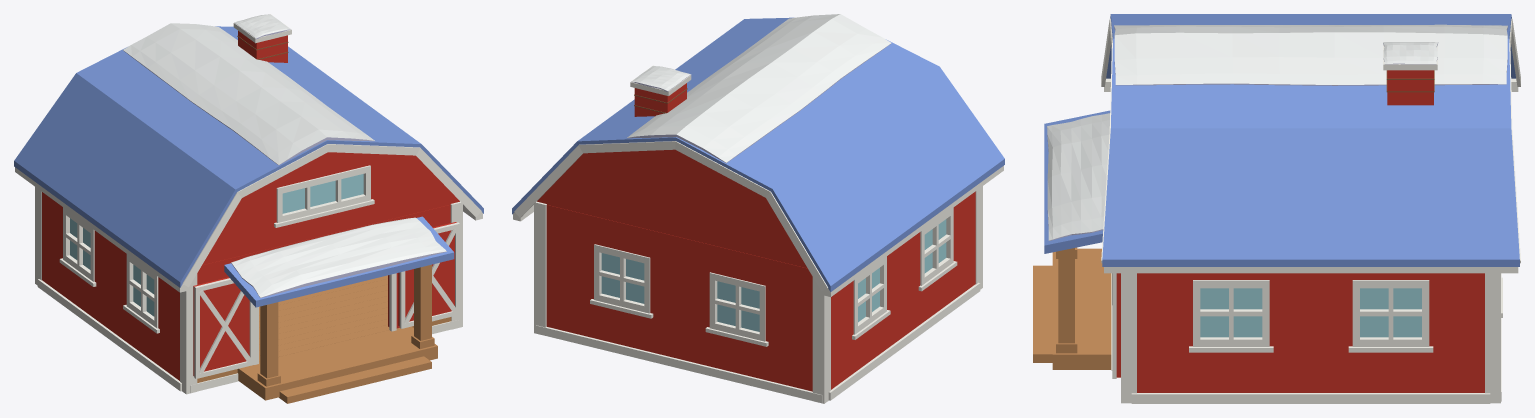
The model's file is StarterFarmhouse.glb.
3 renders of one model, left to right at view 1: azimuth 30°, elevation 25°; view 2: azimuth 150°, elevation 25°; view 3: azimuth 270°, elevation 25°, orthographic. The views are drawn at different scales.
Visible parts, largest first — view 1: MainRoof, FrontGable, LeftWall, PorchCanopy, Porch, Floor, LeftDoor, CornerBoards, RightDoor, FrontWall, Chimney; view 2: MainRoof, RearWall, RearGable, LeftWall, CornerBoards, Chimney; view 3: MainRoof, RightWall, Porch, PorchCanopy, CornerBoards, Chimney, RightDoor.
Boxes of the visible parts, x1,y1,x2,y2 form: MainRoof: (14,23,483,292); FrontGable: (202,152,459,265); LeftWall: (42,192,179,380); PorchCanopy: (224,216,454,307); Porch: (237,264,437,403); Floor: (197,275,451,382); LeftDoor: (193,277,254,378); CornerBoards: (35,187,462,394); RightDoor: (398,222,459,328); FrontWall: (197,204,450,364); Chimney: (233,14,291,62); MainRoof: (512,14,1004,296); RearWall: (546,205,812,391); RearGable: (537,149,807,268); LeftWall: (831,191,975,389); CornerBoards: (534,186,982,403); Chimney: (630,65,691,116); MainRoof: (1101,14,1520,273); RightWall: (1137,273,1484,392); Porch: (1033,247,1111,369); PorchCanopy: (1044,110,1110,253); CornerBoards: (1121,273,1501,403); Chimney: (1383,42,1438,105); RightDoor: (1111,273,1120,378).
Bounding box in the file's own units: 9.88 × 7.45 × 10.94.
1 material, 1 textured.
